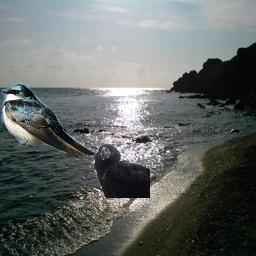Crow: (93, 143, 150, 198)
Swallow: (1, 83, 98, 159)
